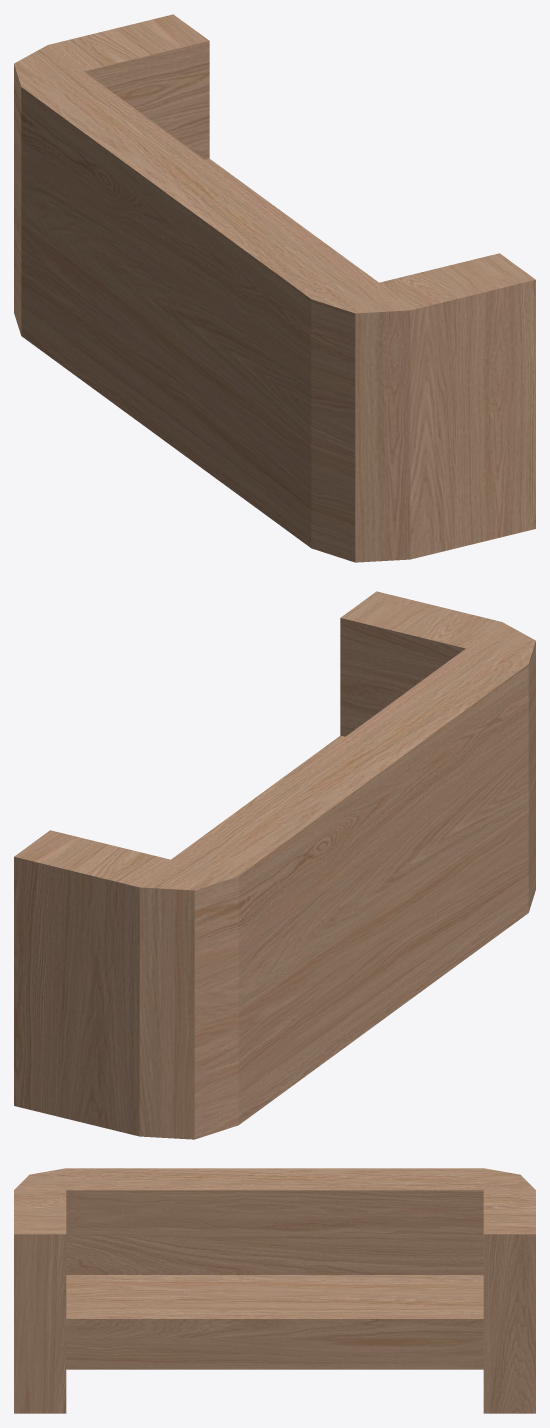
The model's file is recep_desk.glb.
3 renders of one model, top to bottom at view 1: azimuth 30°, elevation 25°; view 2: azimuth 150°, elevation 25°; view 3: azimuth 270°, elevation 25°, orthographic. The views are drawn at different scales.
Parts seen in each view (by area): view 1: RecepDesk-col; view 2: RecepDesk-col; view 3: RecepDesk-col.
Part boxes in pixels (x1,y1,x2,y2): RecepDesk-col: [14, 14, 535, 562]; RecepDesk-col: [14, 591, 535, 1139]; RecepDesk-col: [14, 1168, 535, 1413].
Bounding box in the file's own units: 1.5 × 1.9 × 5.
Materials: 1 (1 with a texture image).
